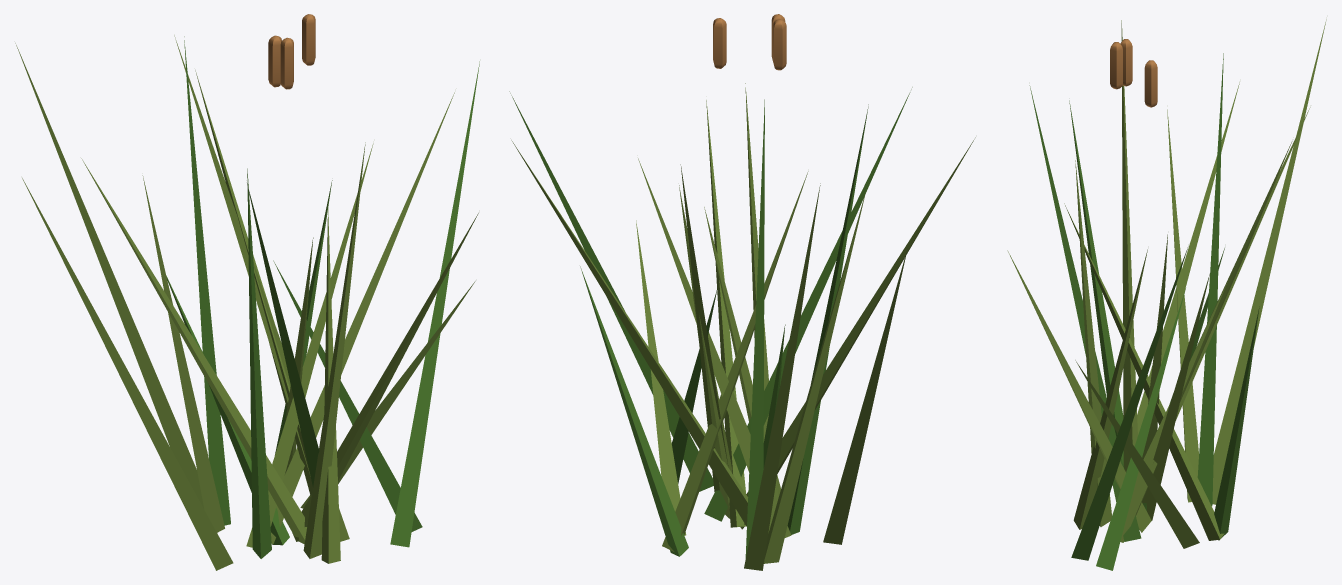
File: SM_Grass_Tall.glb
3 renders of one model, left to right at view 1: azimuth 30°, elevation 25°; view 2: azimuth 150°, elevation 25°; view 3: azimuth 270°, elevation 25°, orthographic. The views are drawn at different scales.
Visible parts, largest first — view 1: SM_Grass_Tall; view 2: SM_Grass_Tall; view 3: SM_Grass_Tall.
Boxes of the visible parts, left/top/right/bottom form: SM_Grass_Tall: left=15, top=14, right=479, bottom=570; SM_Grass_Tall: left=509, top=14, right=975, bottom=570; SM_Grass_Tall: left=1007, top=19, right=1326, bottom=570.
Bounding box in the file's own units: 0.5427 × 0.6163 × 0.3763.
Materials: 1 (1 with a texture image).
